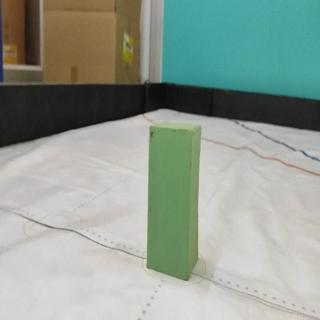greenbox: (145, 119, 203, 282)
